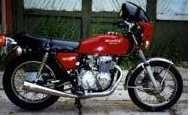motorcycle: (2, 4, 183, 109)
